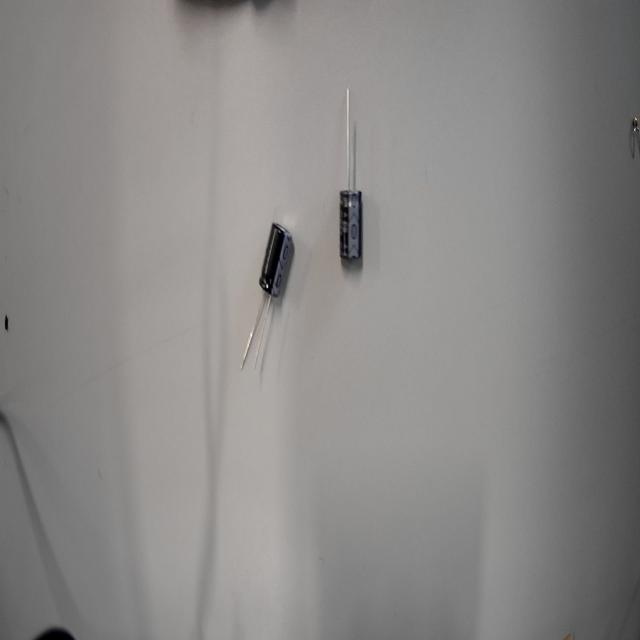capacitor_L: (326, 148, 376, 288), (258, 215, 298, 333)
